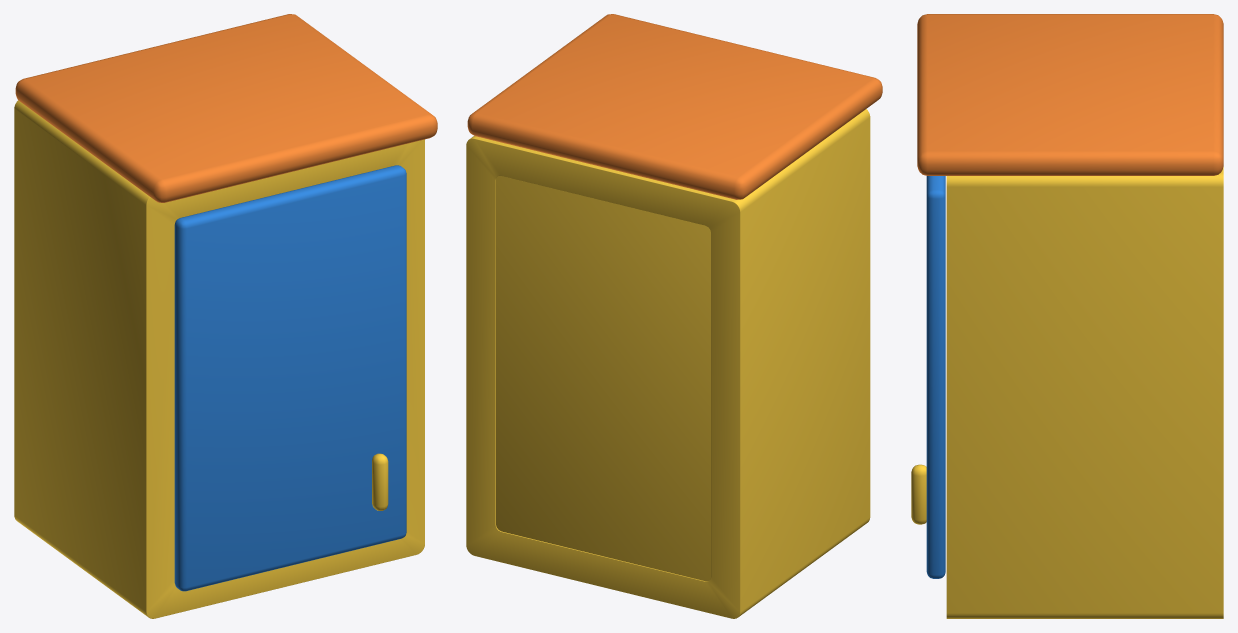
Rendered from armario_parede_1porta_moderna.glb.
The picture shows the model from 3 angles, left to right: view 1: azimuth 30°, elevation 25°; view 2: azimuth 150°, elevation 25°; view 3: azimuth 270°, elevation 25°; orthographic projection. The views are drawn at different scales.
Visible parts, largest first — view 1: armario_parede_1porta_moderna, porta_1; view 2: armario_parede_1porta_moderna; view 3: armario_parede_1porta_moderna, porta_1.
Part boxes in pixels (x1,y1,x2,y2): armario_parede_1porta_moderna: [14, 14, 437, 618]; porta_1: [174, 165, 406, 591]; armario_parede_1porta_moderna: [466, 14, 882, 618]; armario_parede_1porta_moderna: [917, 14, 1223, 618]; porta_1: [911, 176, 945, 578].
Bounding box in the file's own units: 0.398 × 0.6 × 0.363.
Materials: 1 (1 with a texture image).
